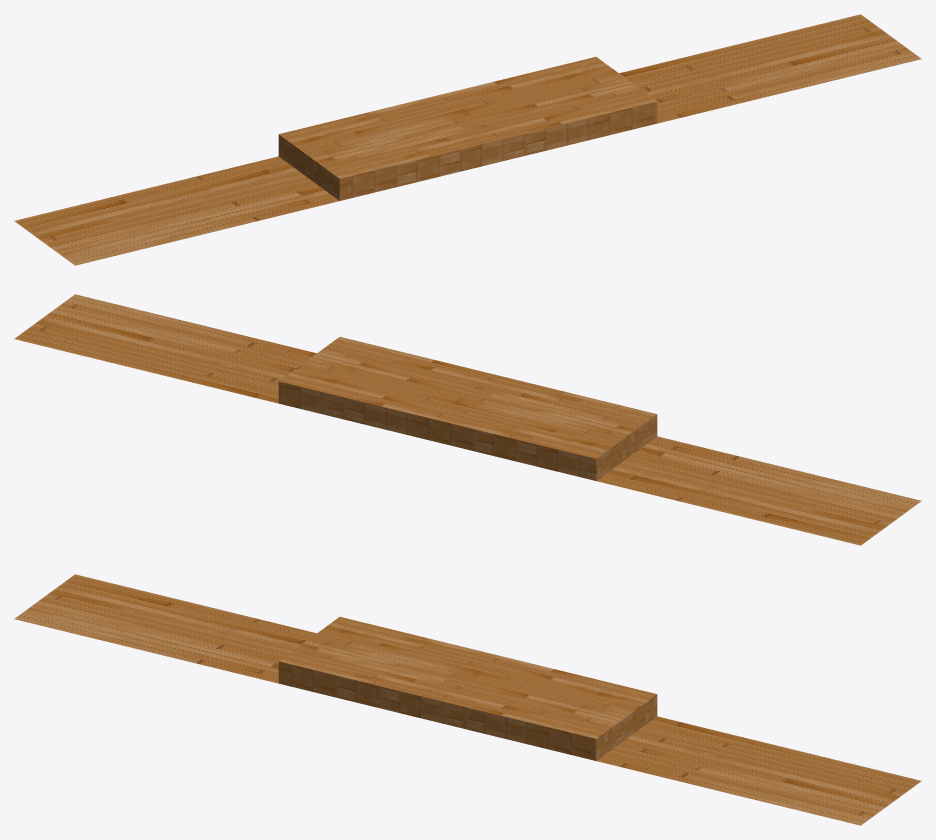
File: woodLVL.dae
3 views of the same model, one above another, from view 1: azimuth 30°, elevation 25°; view 2: azimuth 150°, elevation 25°; view 3: azimuth 330°, elevation 25° (orthographic).
Visible parts, largest first — view 1: Plane, Cube; view 2: Plane, Cube; view 3: Plane, Cube.
Boxes of the visible parts, x1=… form: Plane: x1=14, y1=14, x2=921, y2=265; Cube: x1=278, y1=57, x2=657, y2=200; Plane: x1=14, y1=294, x2=921, y2=545; Cube: x1=278, y1=337, x2=657, y2=480; Plane: x1=14, y1=574, x2=921, y2=825; Cube: x1=278, y1=617, x2=657, y2=760.
Size of the model in its own units: 16 by 2 by 0.4.
1 material, 1 textured.
